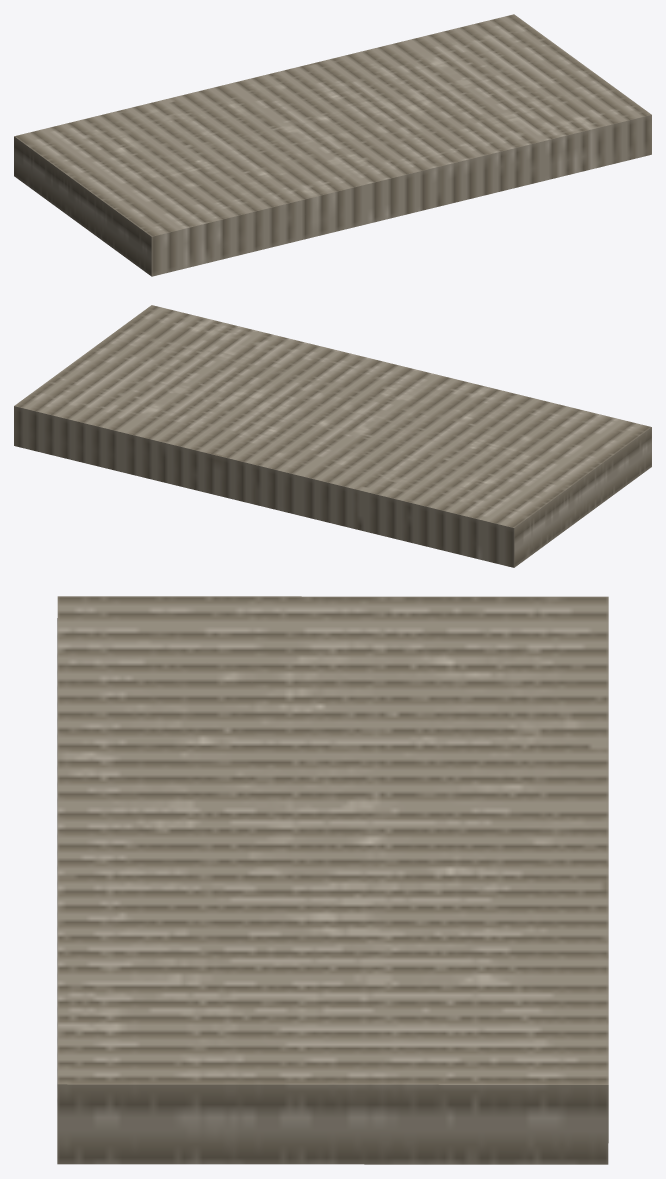
The model's file is matting.obj.
3 renders of one model, top to bottom at view 1: azimuth 30°, elevation 25°; view 2: azimuth 150°, elevation 25°; view 3: azimuth 270°, elevation 25°, orthographic. The views are drawn at different scales.
Parts seen in each view (by area): view 1: polySurfac_polySurfac.002; view 2: polySurfac_polySurfac.002; view 3: polySurfac_polySurfac.002.
Boxes of the visible parts, x1,y1,x2,y2 form: polySurfac_polySurfac.002: (14, 14, 651, 276); polySurfac_polySurfac.002: (14, 305, 651, 567); polySurfac_polySurfac.002: (57, 596, 608, 1164).
Bounding box in the file's own units: 1.86 × 0.1427 × 0.8883.
